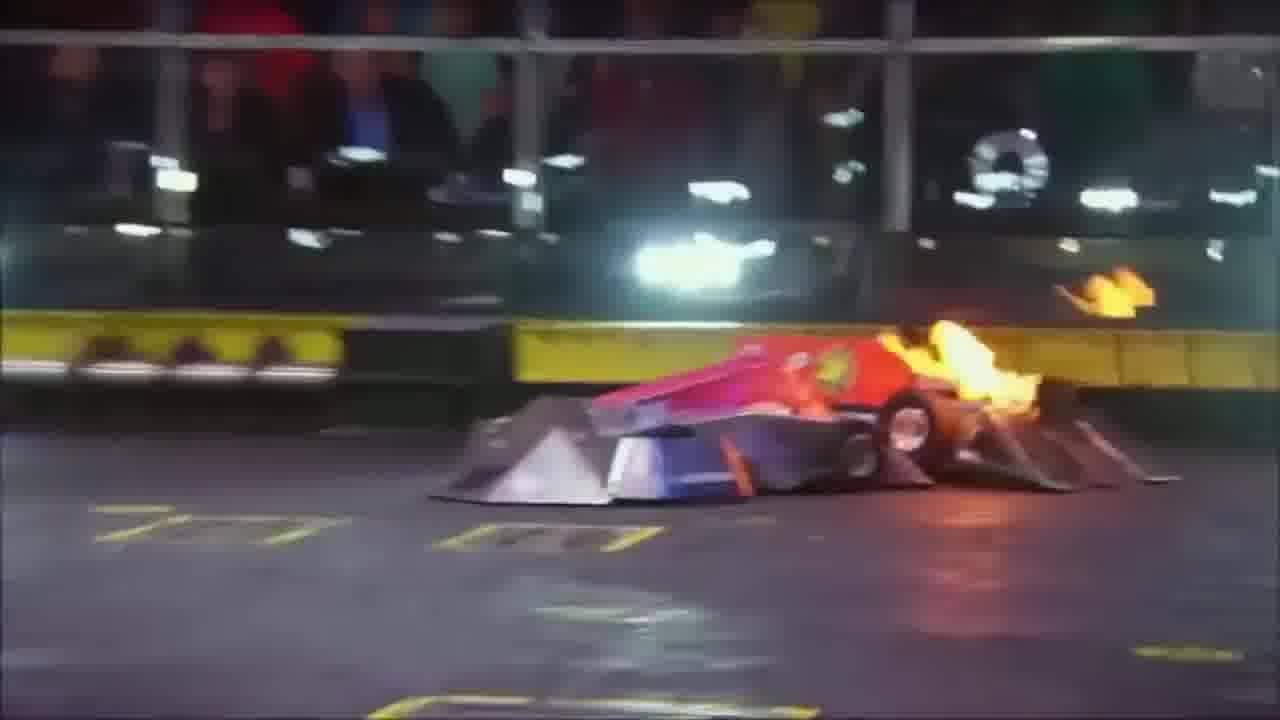combatbot: (418, 336, 1181, 503)
